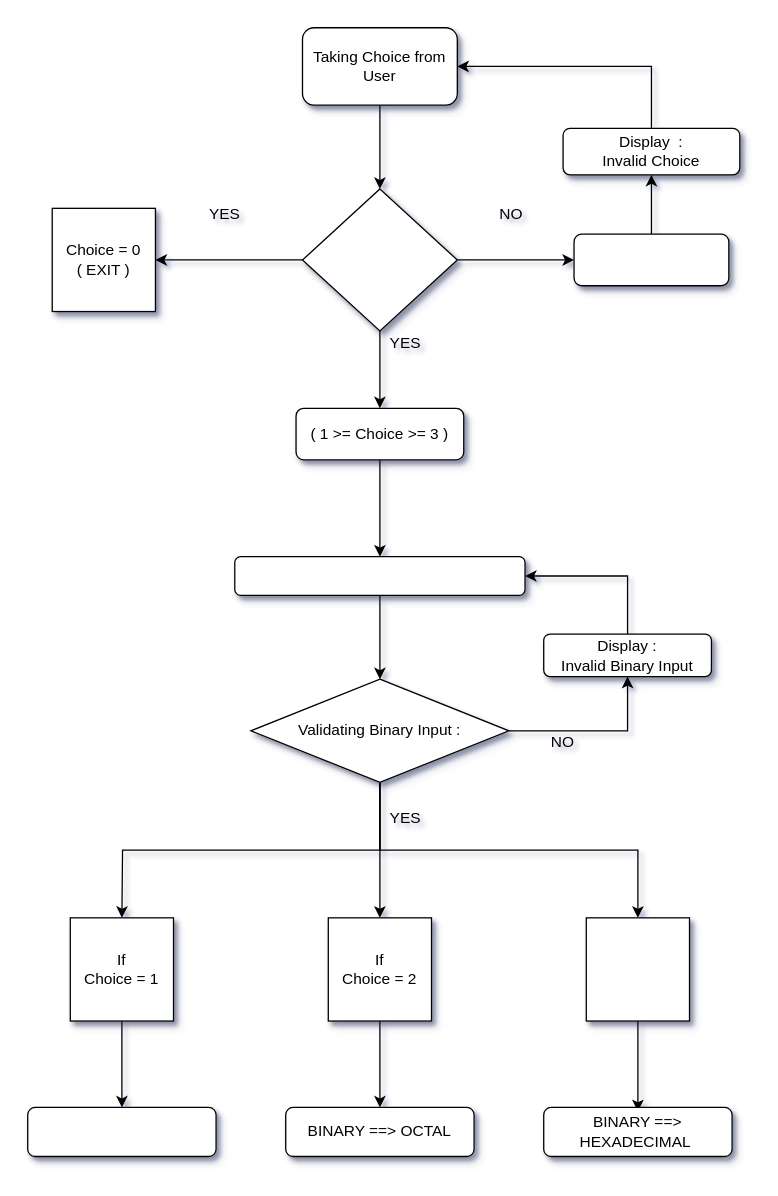
Some shapes in this 778 by 1196 pixel diagram are drawn without their labels. Here are the shapes that lost their labels. From the top down, the centre of each, then its label:
At point (380, 261): "Validating User's Choice".
At point (652, 261): "( 0 < Choice or > 3 )".
At point (380, 577): "Enter Binary Number :".
At point (638, 970): "If Choice = 3".
At point (122, 1133): "BINARY ==> DECIMAL".
